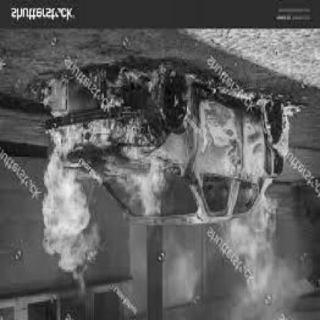Fire: (30, 86, 298, 282)
